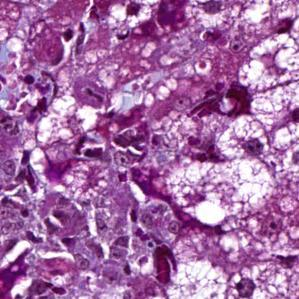ballooning: (163, 151, 277, 229), (235, 33, 298, 93), (224, 259, 292, 297)
